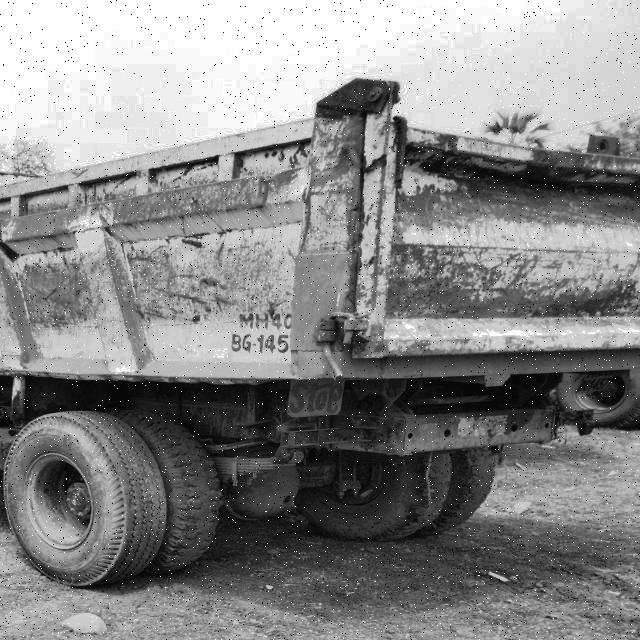HCV: (1, 81, 640, 582)
